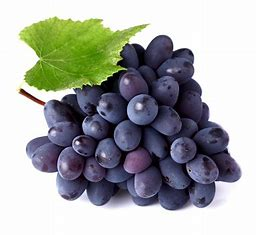grape: (84, 85, 217, 207)
